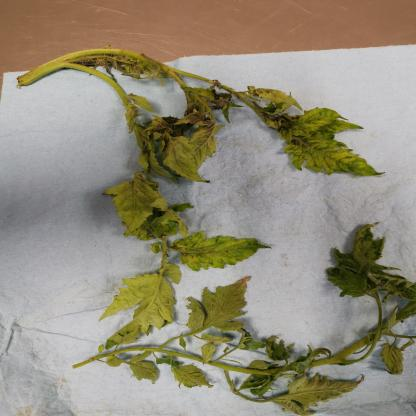T_L_R: (101, 275, 177, 350), (286, 129, 383, 177), (268, 369, 361, 416), (170, 232, 271, 272), (106, 172, 164, 237), (335, 224, 400, 278), (192, 285, 247, 332), (164, 135, 204, 182), (190, 120, 224, 169), (290, 109, 342, 137), (368, 273, 416, 302), (328, 268, 367, 298), (172, 366, 213, 389), (266, 337, 295, 365), (161, 210, 190, 238), (381, 345, 404, 376), (127, 363, 159, 385), (249, 89, 290, 105), (238, 329, 266, 351), (320, 120, 364, 134), (264, 97, 296, 116), (127, 94, 155, 113), (240, 376, 273, 391), (126, 103, 140, 133), (164, 264, 183, 285), (201, 335, 233, 345), (203, 344, 217, 364), (130, 352, 153, 363), (106, 356, 126, 368), (250, 361, 273, 371)
T_S_R: (53, 50, 214, 85), (18, 62, 130, 107), (343, 297, 383, 365), (313, 337, 373, 367), (225, 371, 271, 403), (122, 348, 204, 363), (210, 363, 278, 376), (74, 352, 122, 369), (160, 333, 200, 350), (214, 348, 239, 363)
